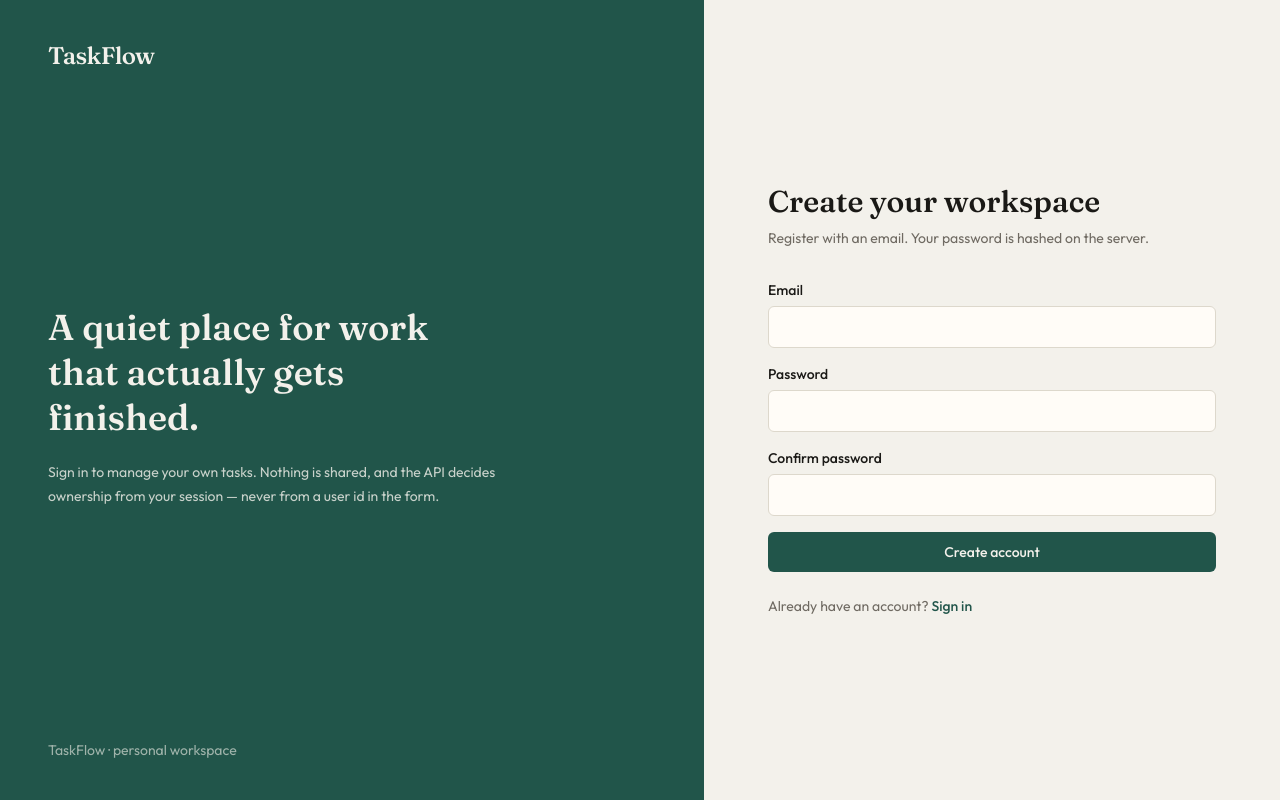
Test: RegisterPage › requires a minimum password length
In the field labelled "Email": (992, 327) [768, 306, 1216, 348], type "rijon@example.com"
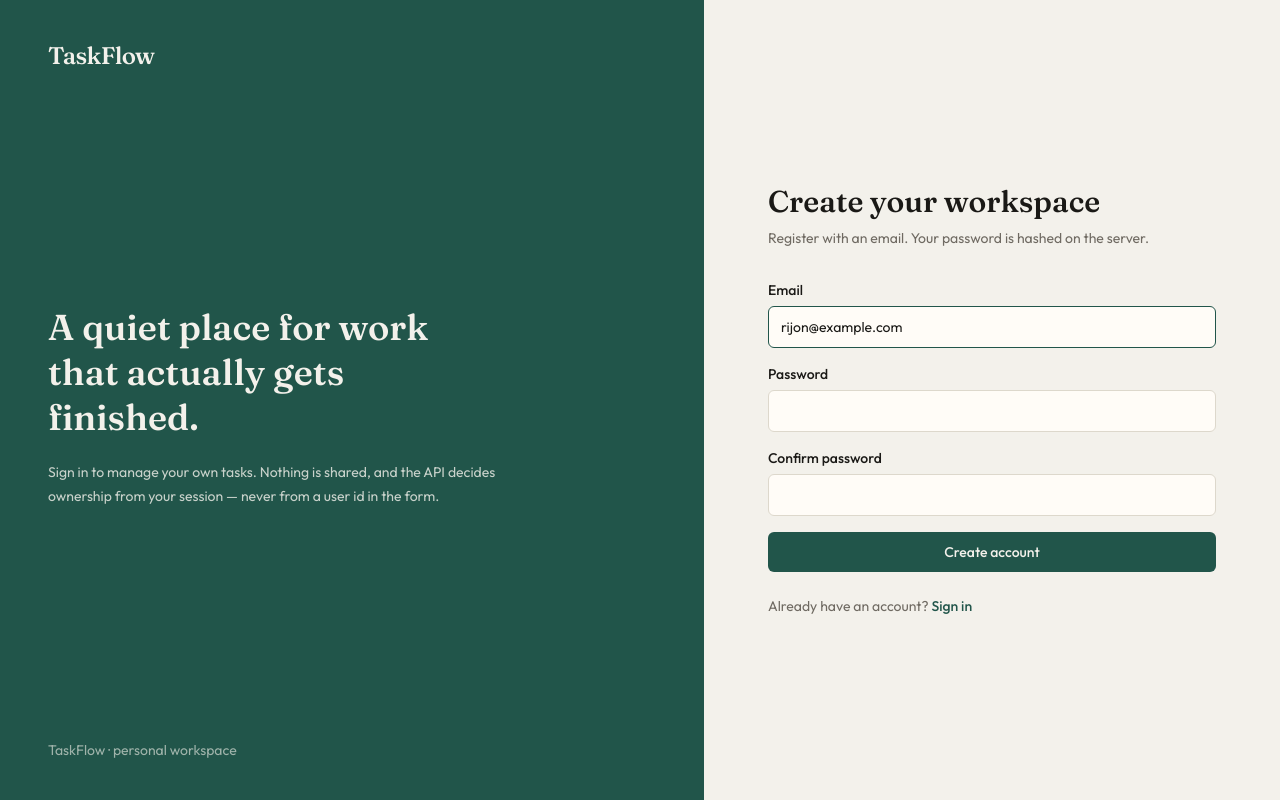
In the password field labelled "Password": (992, 411) [768, 390, 1216, 432], type "short"
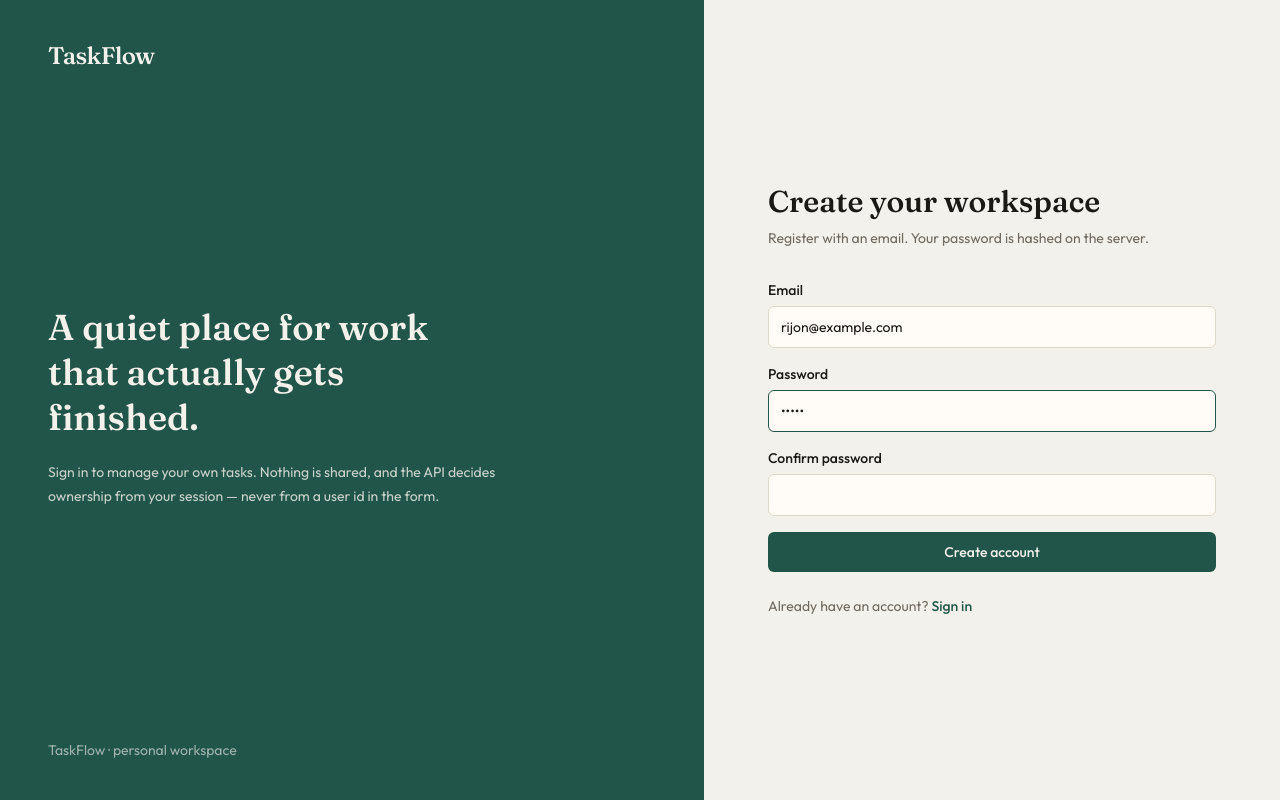
In the password field labelled "Confirm password": (992, 495) [768, 474, 1216, 516], type "short"
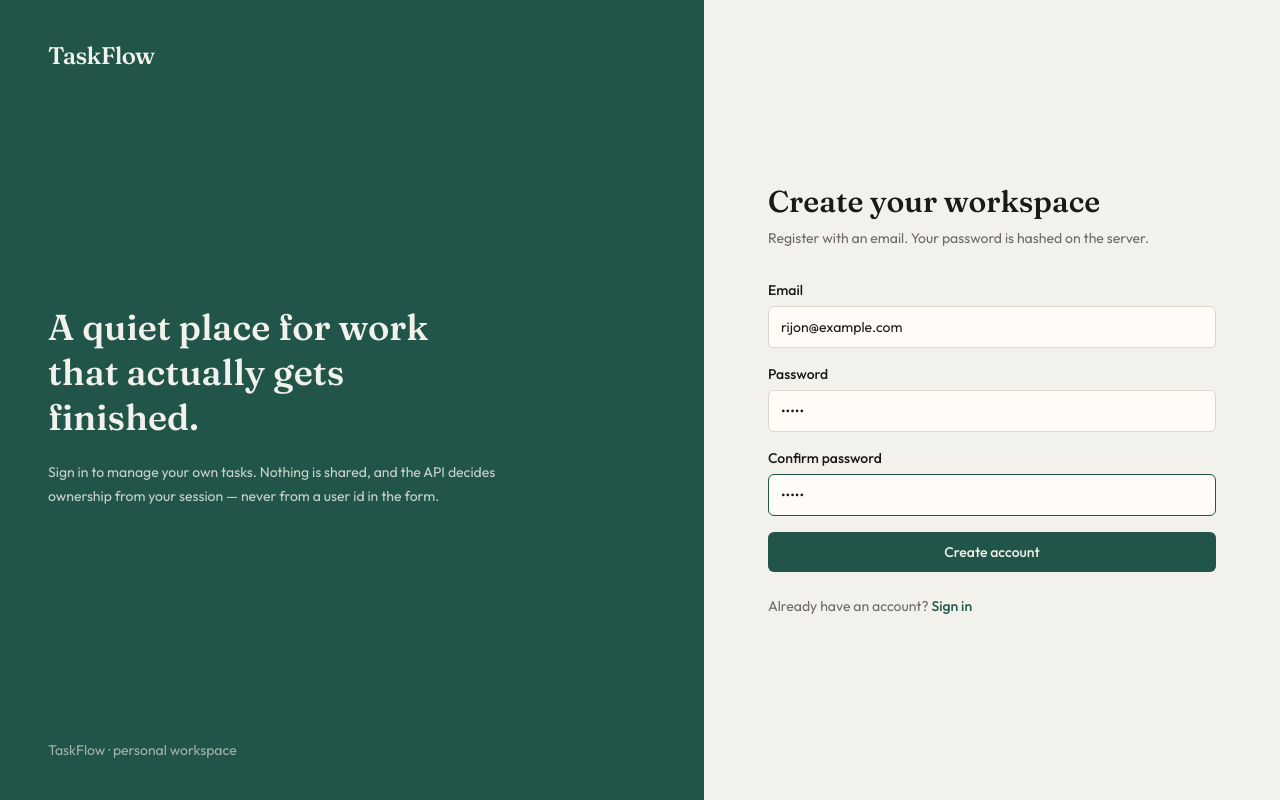
Click the button "Create account": (992, 552) [768, 532, 1216, 572]
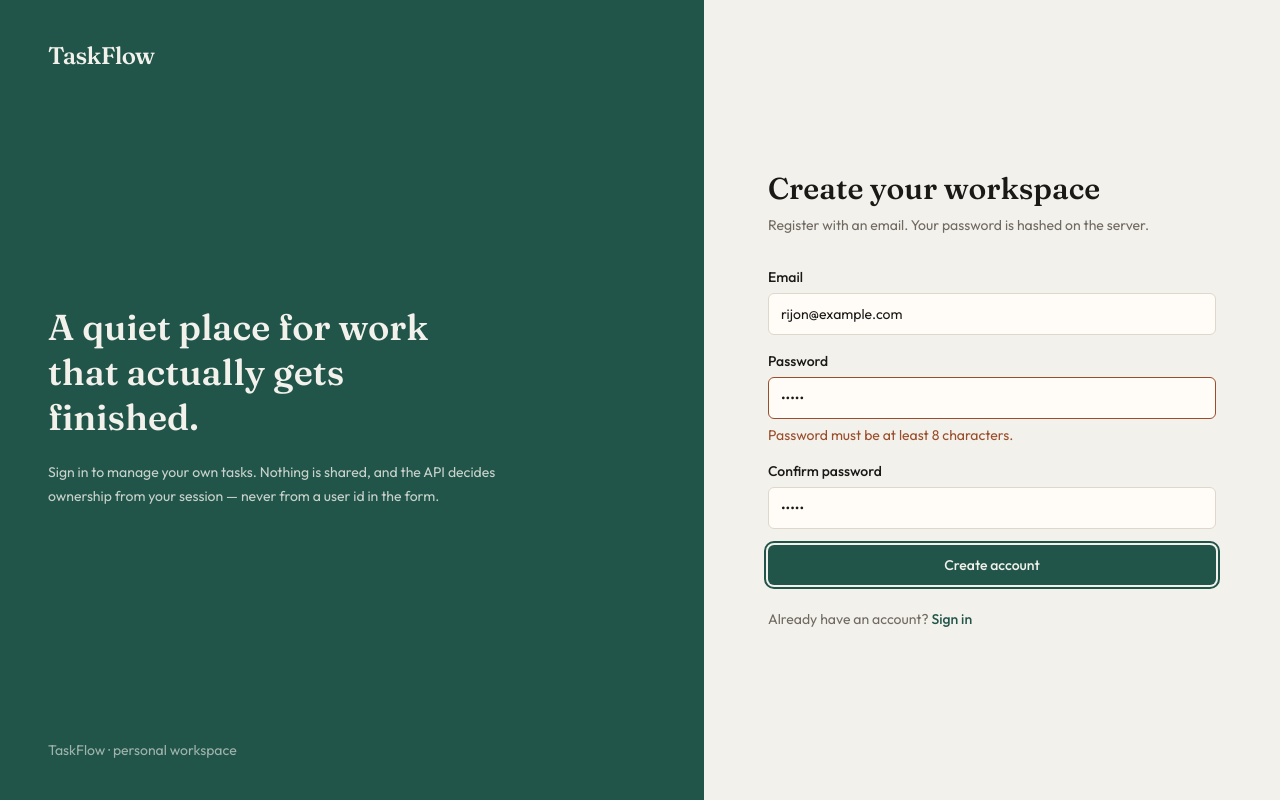
Now the text "Password must be at least 8 characters." is shown, box [768, 426, 1013, 444]
